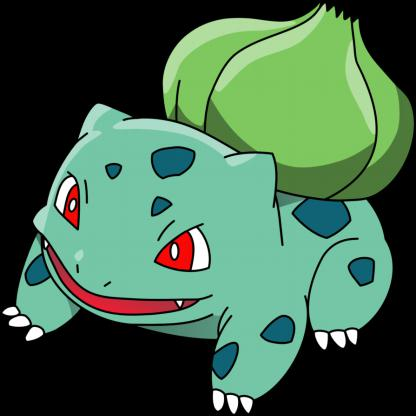Bulbasaur: (4, 6, 416, 416)
